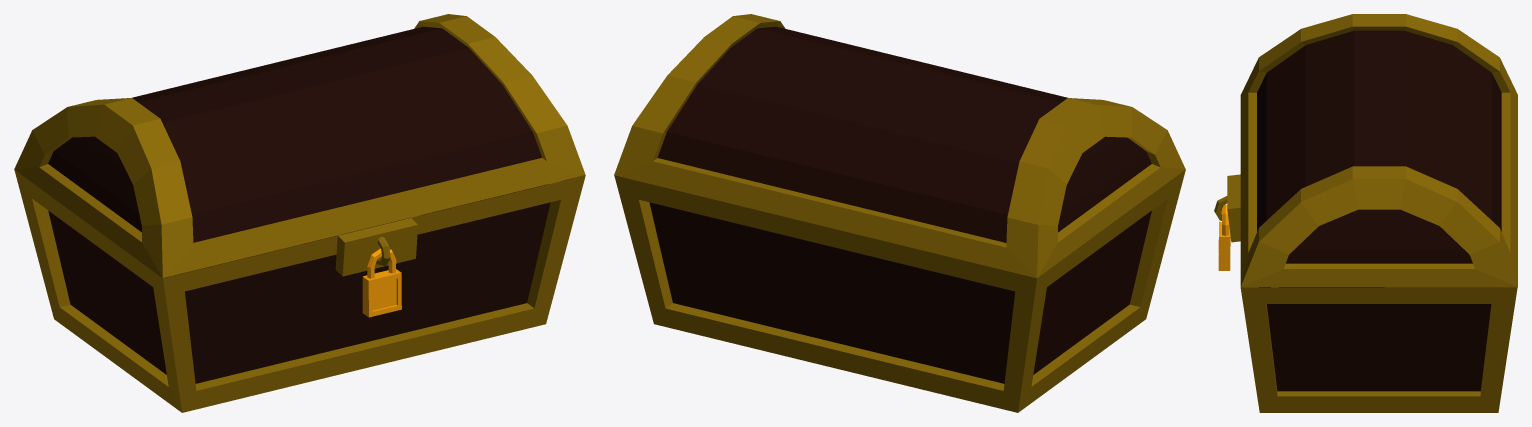
File: prop_chest_1.FBX
The picture shows the model from 3 angles, left to right: view 1: azimuth 30°, elevation 25°; view 2: azimuth 150°, elevation 25°; view 3: azimuth 270°, elevation 25°; orthographic projection. The views are drawn at different scales.
Parts seen in each view (by area): view 1: Torus002; view 2: Torus002; view 3: Torus002.
Boxes of the visible parts, bbox=[...] form: Torus002: bbox=[14, 14, 585, 412]; Torus002: bbox=[614, 14, 1185, 412]; Torus002: bbox=[1214, 14, 1517, 412].
Size of the model in its own units: 0.6481 by 0.3673 by 0.4328.
